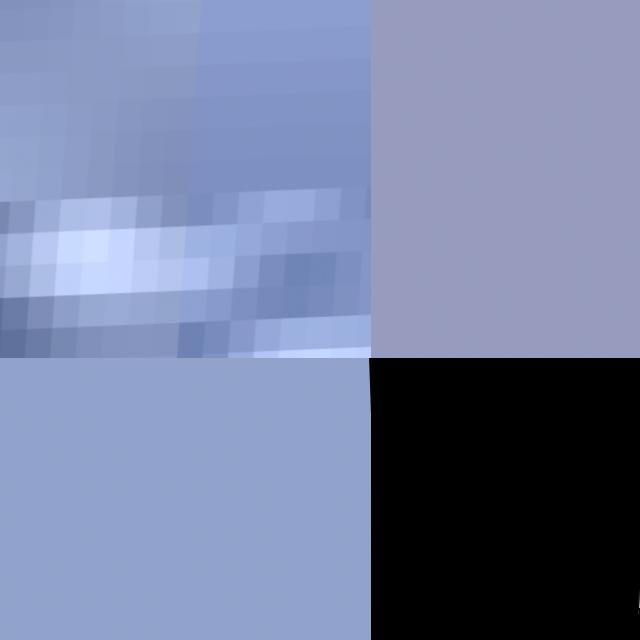0: (0, 0, 371, 358)
drone: (371, 358, 640, 640)
